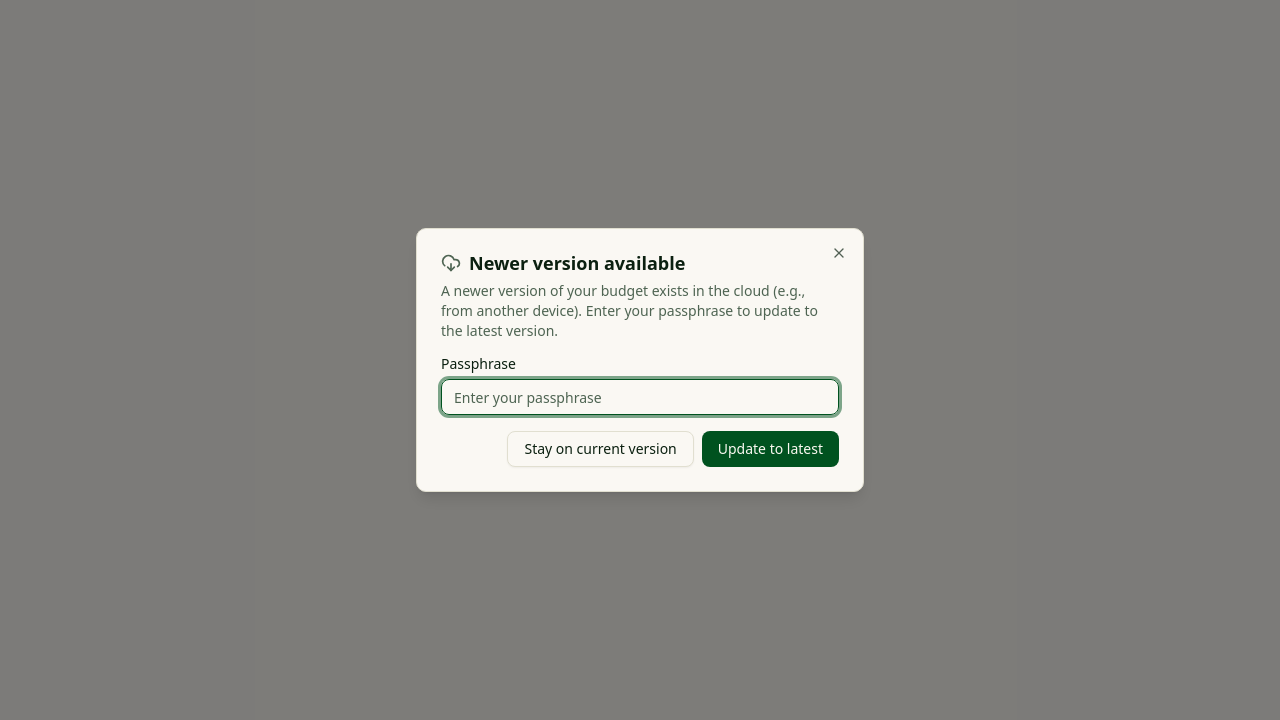
Test case: NewerVersionAvailableDialog › shows error when passphrase is incorrect
In the password field with placeholder "Enter your passphrase": coordinates (640, 397) left=441, top=379, right=839, bottom=415, type "wrong"
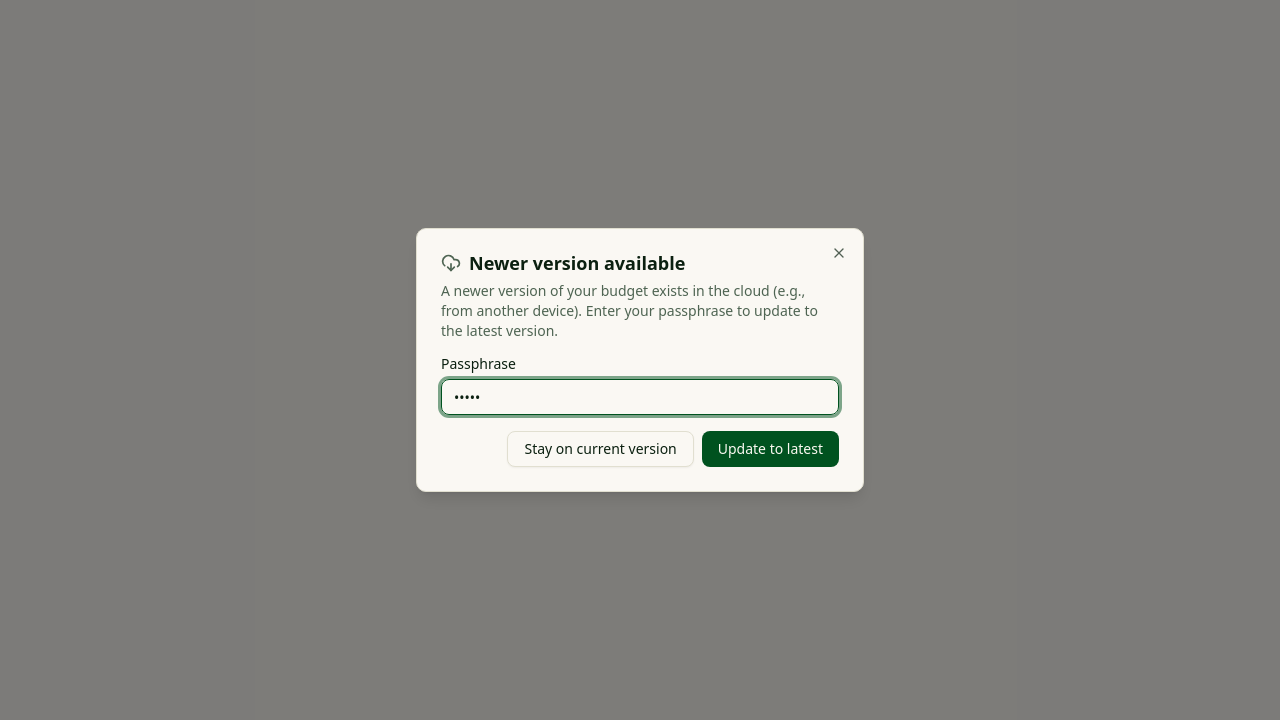
Click the button "Update to latest": coordinates (770, 449) left=702, top=431, right=839, bottom=467
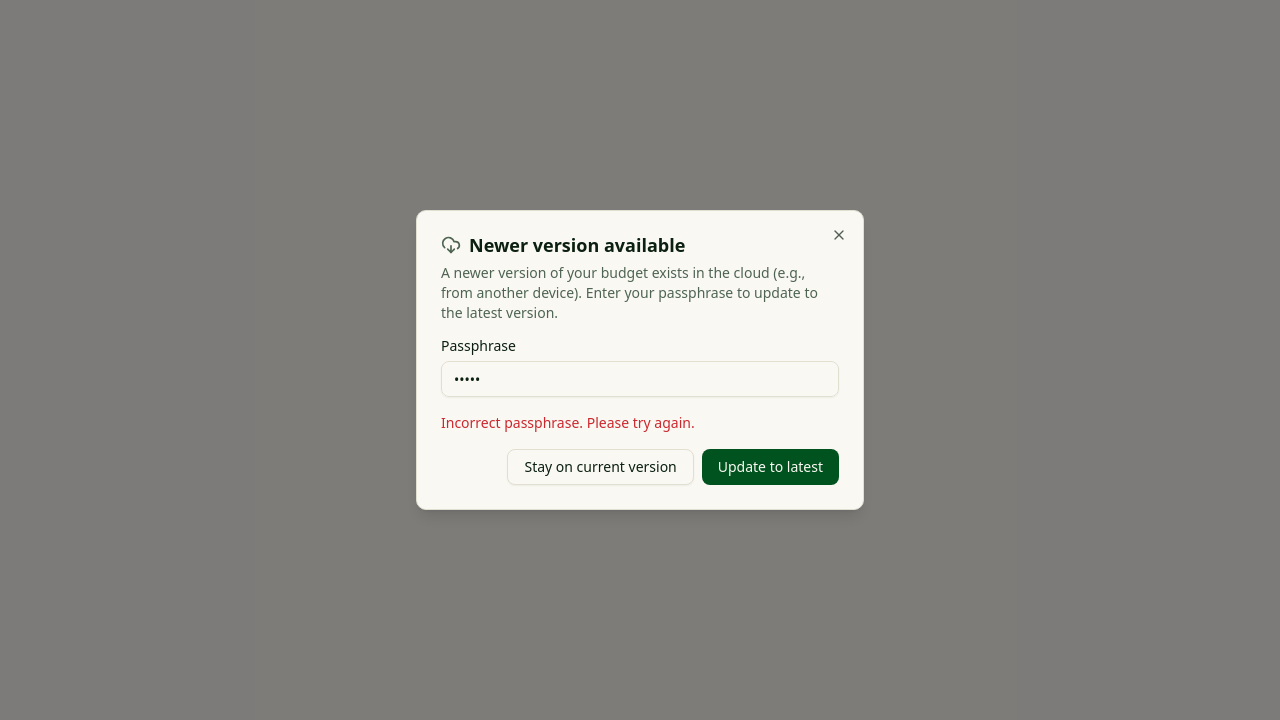
expect the text "Incorrect passphrase. Please try again." is shown: met, box left=441, top=413, right=695, bottom=432
